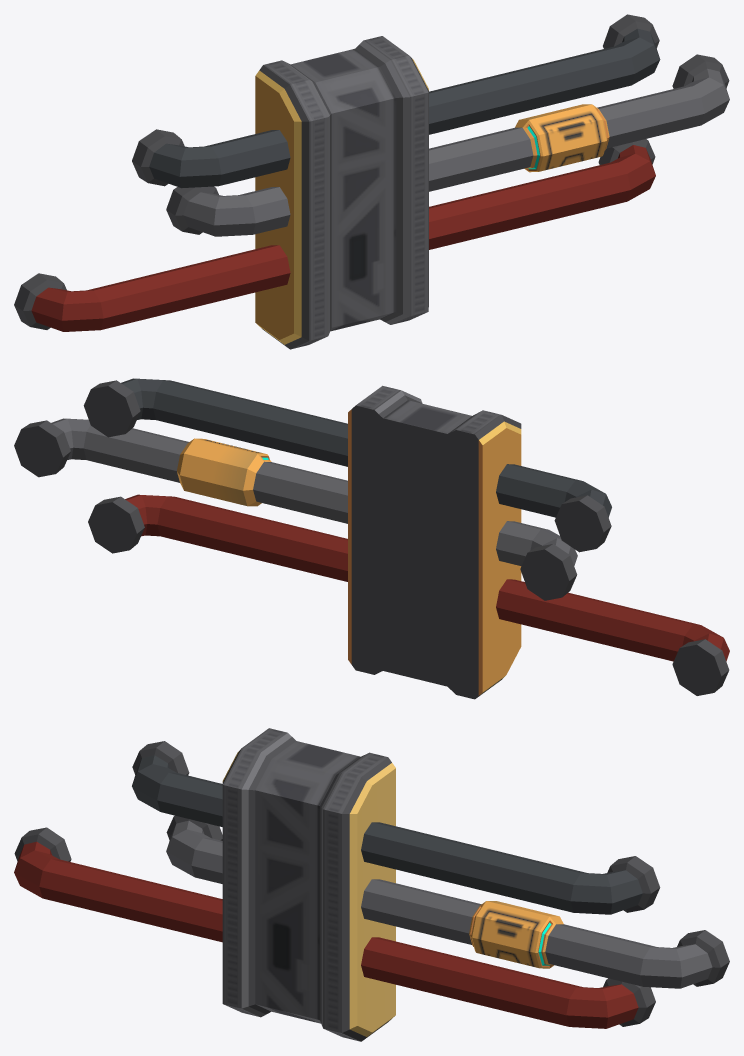
The model's file is SM_Prop_Greebles_16.fbx.
3 renders of one model, top to bottom at view 1: azimuth 30°, elevation 25°; view 2: azimuth 150°, elevation 25°; view 3: azimuth 330°, elevation 25°, orthographic.
Visible parts, largest first — view 1: SM_Prop_Greebles_16; view 2: SM_Prop_Greebles_16; view 3: SM_Prop_Greebles_16.
Part boxes in pixels (box(x1,y1,x2,y2)): SM_Prop_Greebles_16: box(14, 14, 729, 349); SM_Prop_Greebles_16: box(14, 378, 729, 699); SM_Prop_Greebles_16: box(14, 728, 729, 1041).
Size of the model in its own units: 229 by 82.11 by 26.73.
